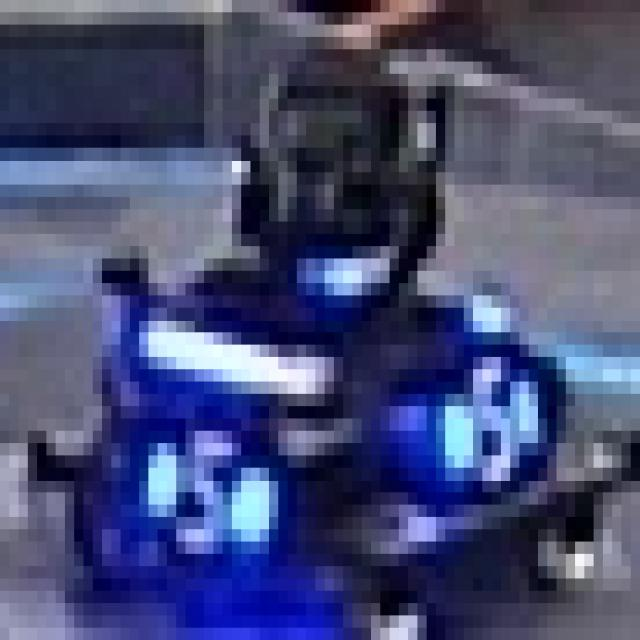B5: (93, 394, 260, 578), (404, 326, 561, 499)
